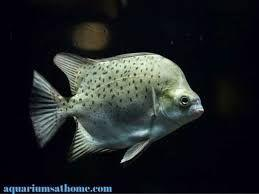Scat Fish: (31, 51, 206, 166)
